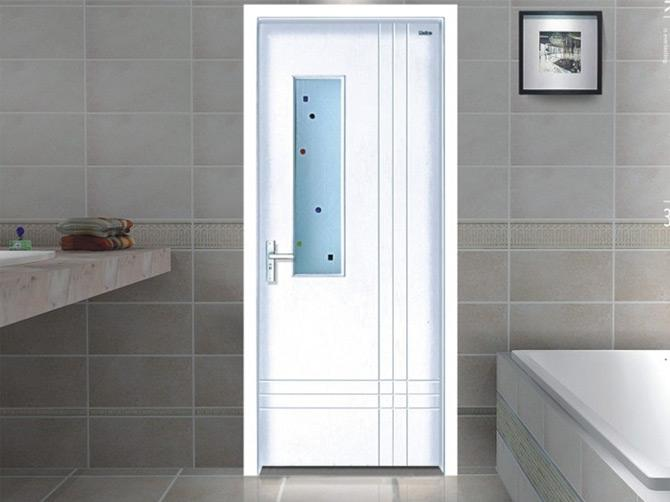door: (257, 20, 441, 465)
